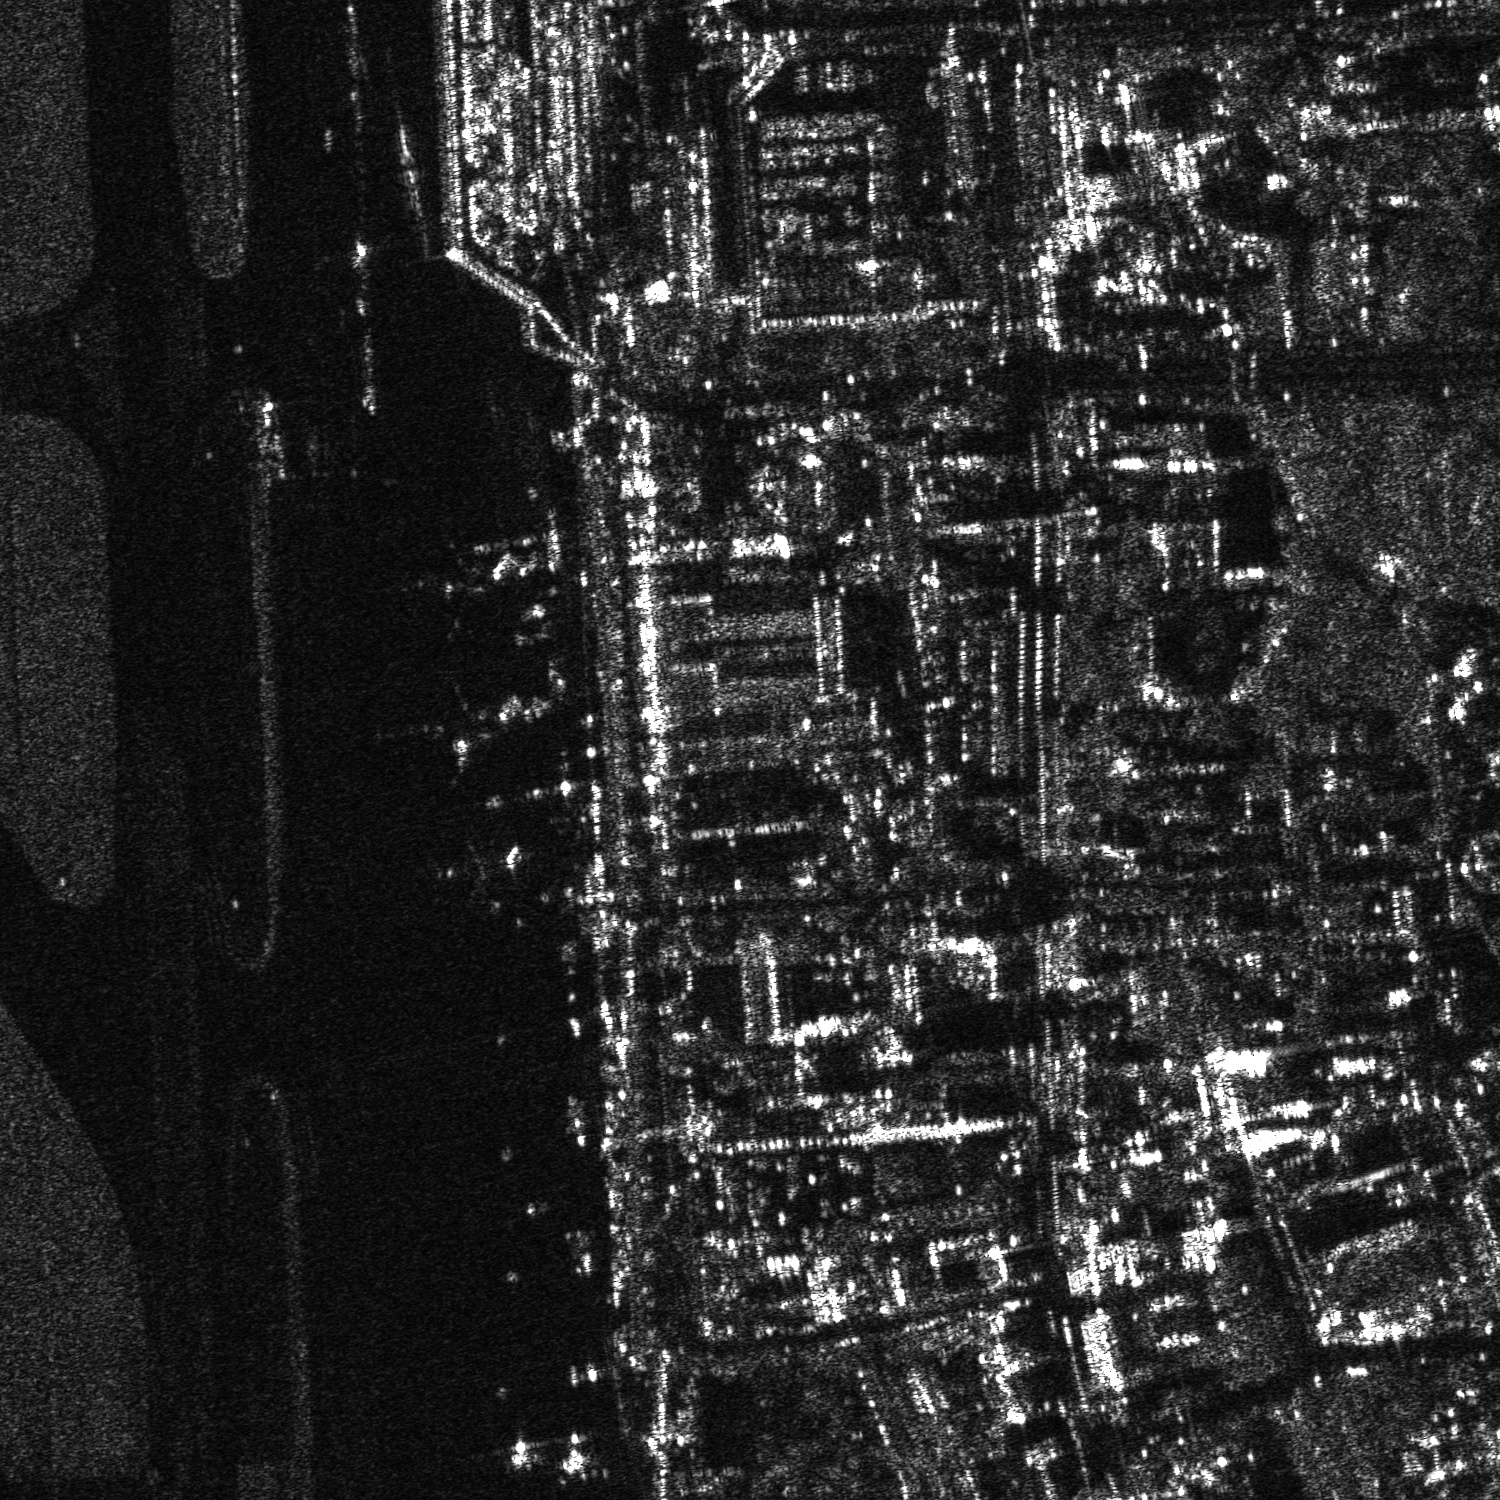ARJ21: (374, 683, 556, 776)
other: (390, 538, 534, 630), (484, 1408, 611, 1490), (402, 837, 545, 908)
